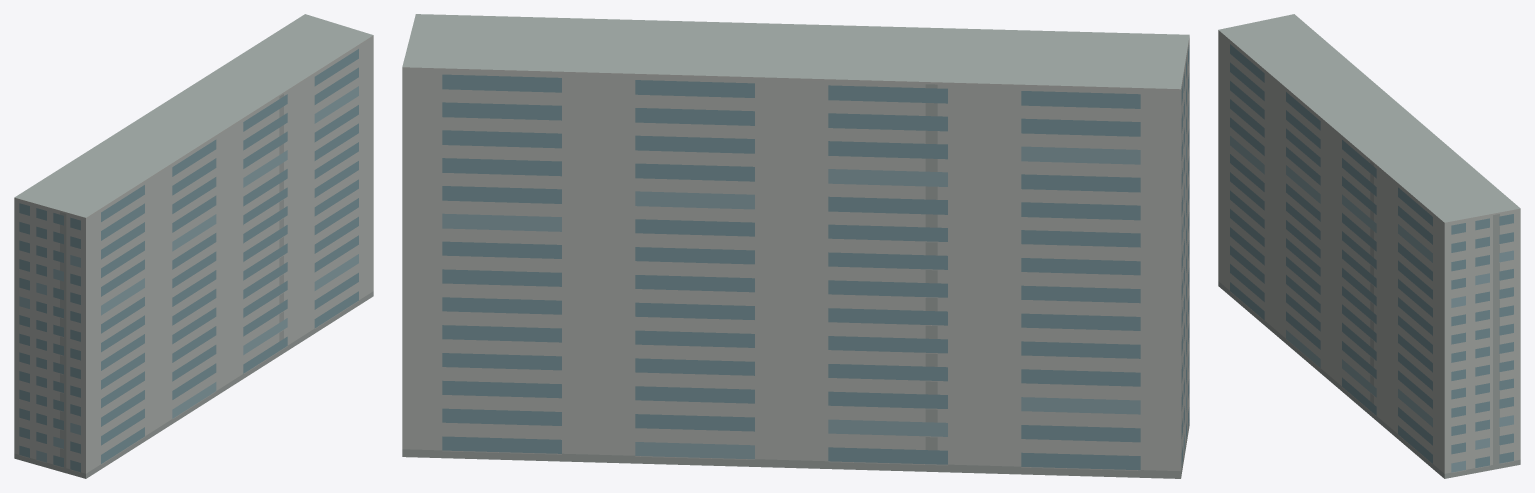
Rendered from residential-f413e061-b6be-4344-b2ac-b55b6be5cb0b.glb.
3 views of the same model, side by side, from view 1: azimuth 30°, elevation 25°; view 2: azimuth 150°, elevation 25°; view 3: azimuth 270°, elevation 25° (orthographic). The views are drawn at different scales.
Visible parts, largest first — view 1: residential-f413e061-b6be-4344-b2ac-b55b6be5cb0b.tmp; view 2: residential-f413e061-b6be-4344-b2ac-b55b6be5cb0b.tmp; view 3: residential-f413e061-b6be-4344-b2ac-b55b6be5cb0b.tmp.
Part boxes in pixels (box(x1,y1,x2,y2)): residential-f413e061-b6be-4344-b2ac-b55b6be5cb0b.tmp: box(14, 14, 373, 478); residential-f413e061-b6be-4344-b2ac-b55b6be5cb0b.tmp: box(402, 14, 1189, 478); residential-f413e061-b6be-4344-b2ac-b55b6be5cb0b.tmp: box(1218, 14, 1520, 478).
Size of the model in its own units: 74.64 by 42.7 by 45.72.
